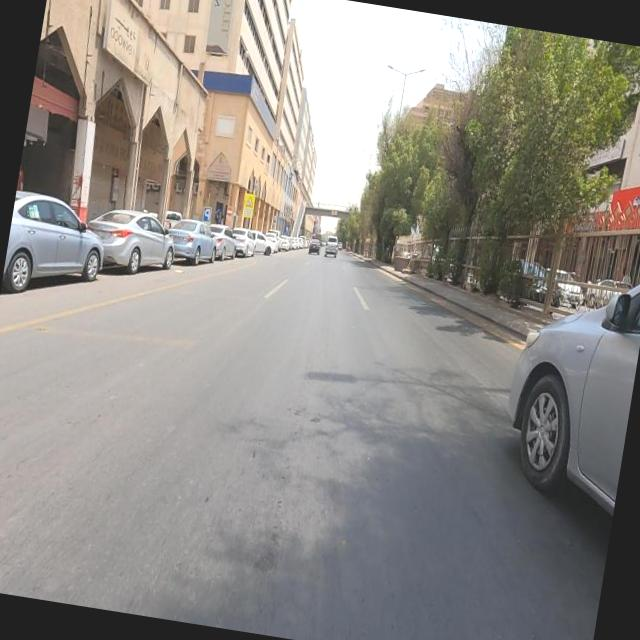debris: (66, 0, 195, 122), (200, 138, 255, 194)
